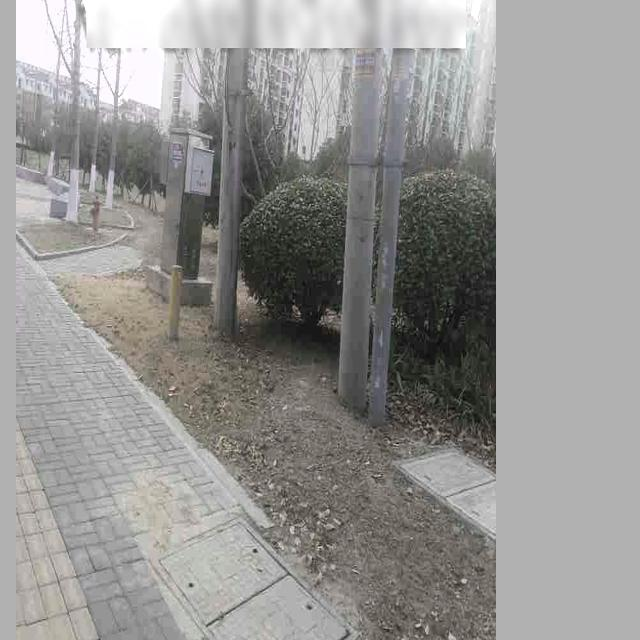good: (150, 512, 360, 640), (396, 446, 496, 545)
